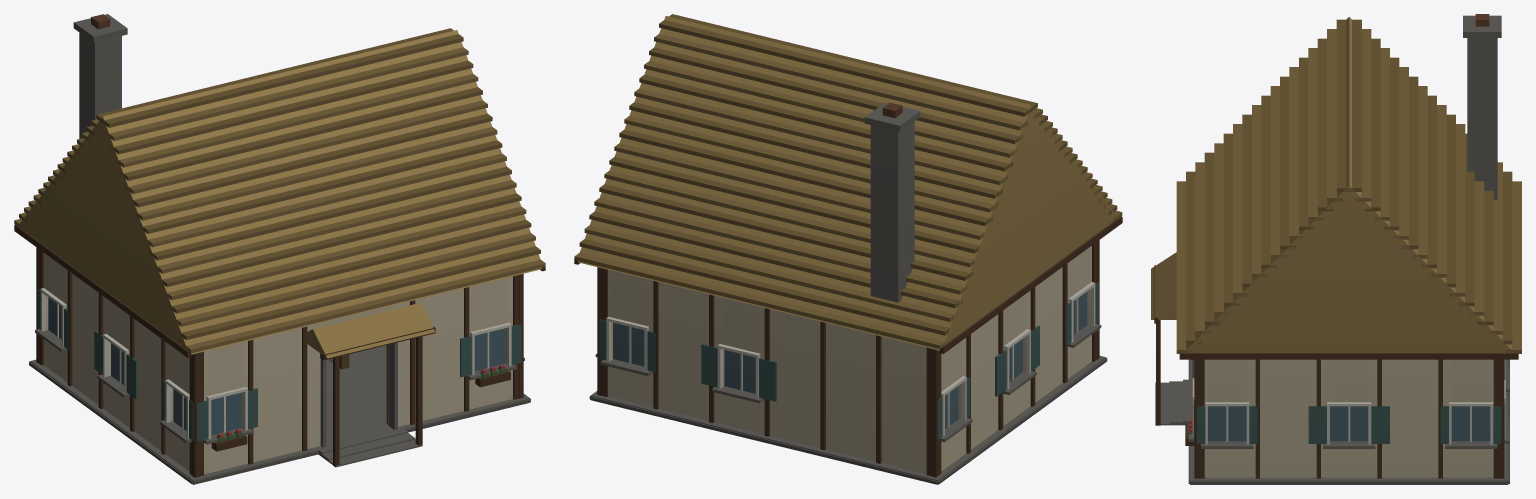
Rendered from town_cottage.glb.
3 renders of one model, left to right at view 1: azimuth 30°, elevation 25°; view 2: azimuth 150°, elevation 25°; view 3: azimuth 270°, elevation 25°, orthographic. The views are drawn at different scales.
Parts seen in each view (by area): view 1: prop; view 2: prop; view 3: prop.
Boxes of the visible parts, bbox=[...] form: prop: bbox=[14, 14, 545, 484]; prop: bbox=[574, 14, 1122, 484]; prop: bbox=[1151, 14, 1521, 484].
Bounding box in the file's own units: 9.94 × 9.14 × 9.12.
